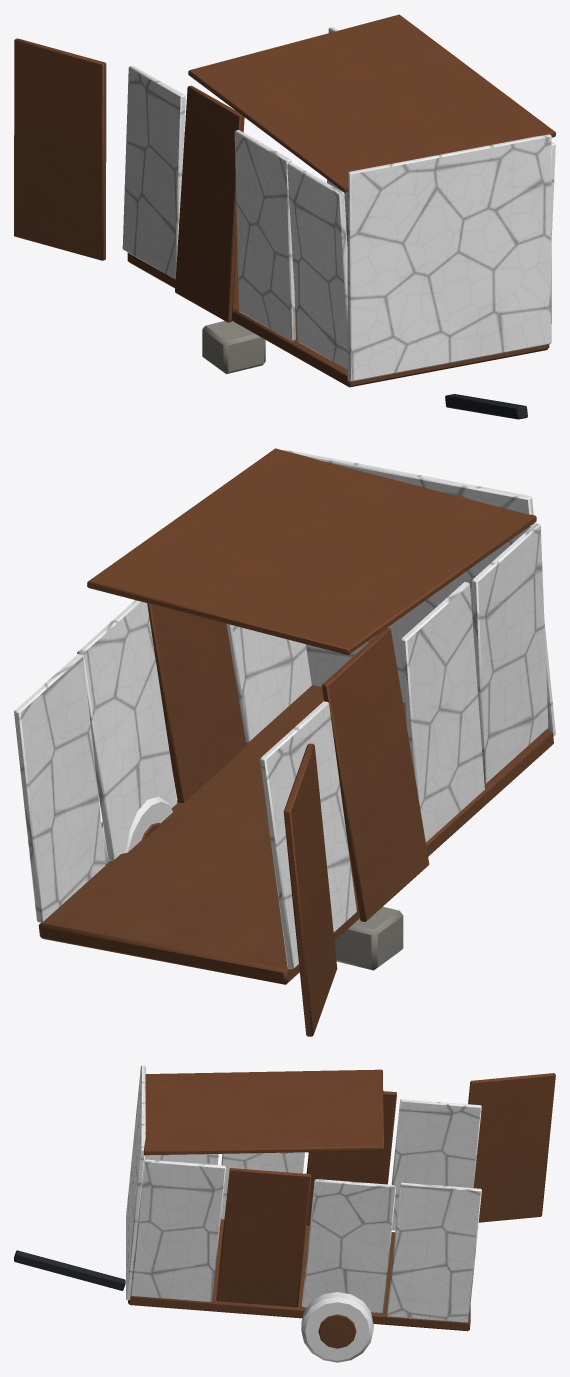
Rendered from trailer_scorched.glb.
3 views of the same model, one above another, from view 1: azimuth 30°, elevation 25°; view 2: azimuth 150°, elevation 25°; view 3: azimuth 270°, elevation 25° (orthographic). The views are drawn at different scales.
Visible parts, largest first — view 1: trailer_scorched; view 2: trailer_scorched; view 3: trailer_scorched.
Boxes of the visible parts, bbox=[...] form: trailer_scorched: bbox=[14, 14, 555, 419]; trailer_scorched: bbox=[14, 448, 555, 1036]; trailer_scorched: bbox=[14, 1065, 555, 1362].
Size of the model in its own units: 2.72 by 2.55 by 5.69.
Materials: 5 (5 with a texture image).
